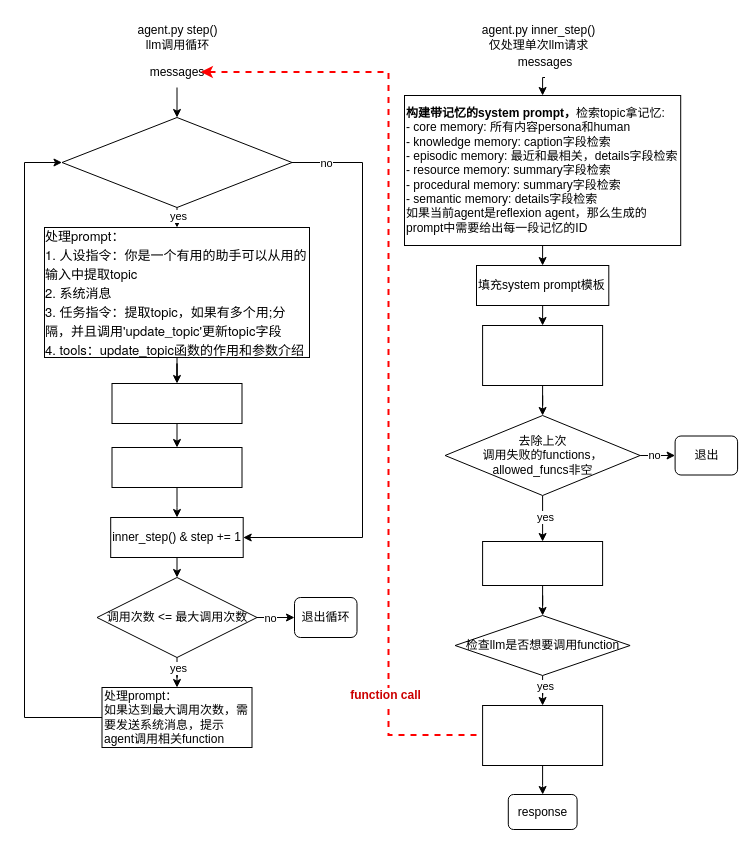
Image size: 756x847. Some labels were removed from this diagram. Here are the shapes that lost their labels. From the top down, the centre of each, then its label:
the point at 176,162: 是否meta_memory_agent或 chat_agent，并且step = 0
the point at 542,355: 拼接对话消息； 获取allowed_funcs
the point at 176,403: 向agent发送请求
the point at 176,467: 维护agent_state： 动态更新topic字段
the point at 542,563: 向agent发送请求： 对话+functions
the point at 542,735: 开启线程池执行函数，每个memory由对应的agent更新
